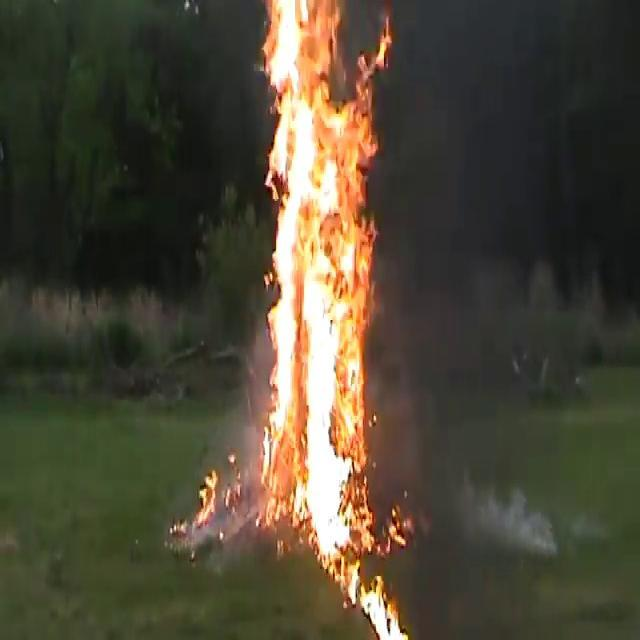Fire: (238, 0, 404, 601)
